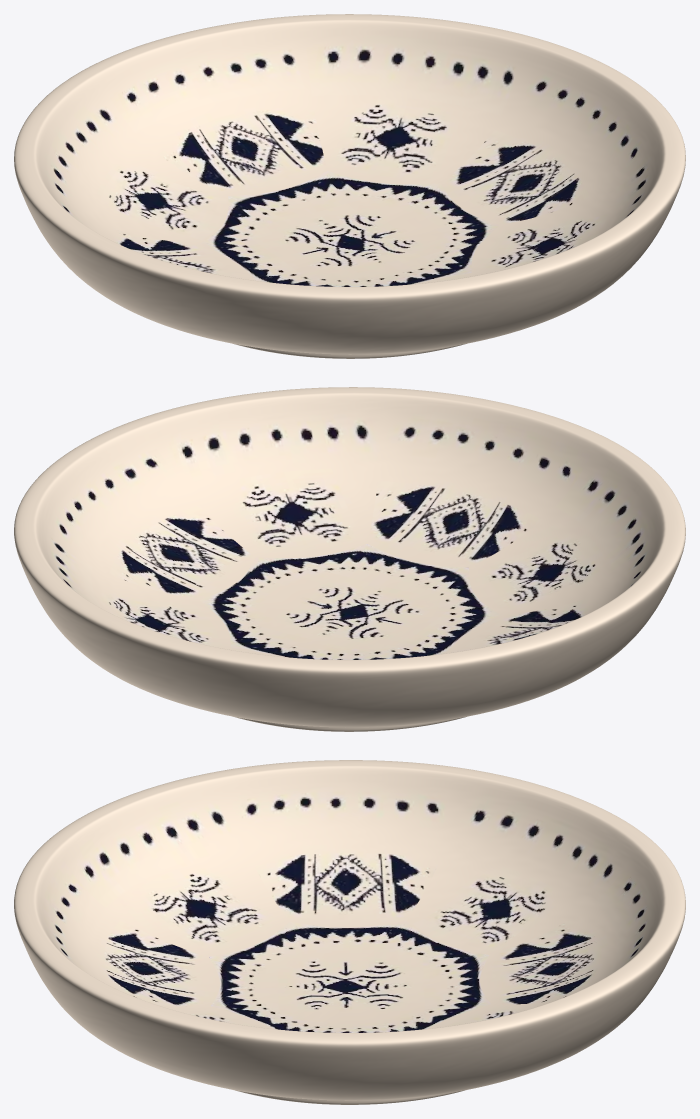
The model's file is ceramic-plate.glb.
3 views of the same model, one above another, from view 1: azimuth 30°, elevation 25°; view 2: azimuth 150°, elevation 25°; view 3: azimuth 270°, elevation 25° (orthographic).
Visible parts, largest first — view 1: Object_4; view 2: Object_4; view 3: Object_4.
Boxes of the visible parts, <box> form: Object_4: <box>14,14,685,358</box>; Object_4: <box>14,387,685,731</box>; Object_4: <box>14,760,685,1104</box>.
Size of the model in its own units: 3.59 by 0.6897 by 3.59.
Materials: 2 (2 with a texture image).
